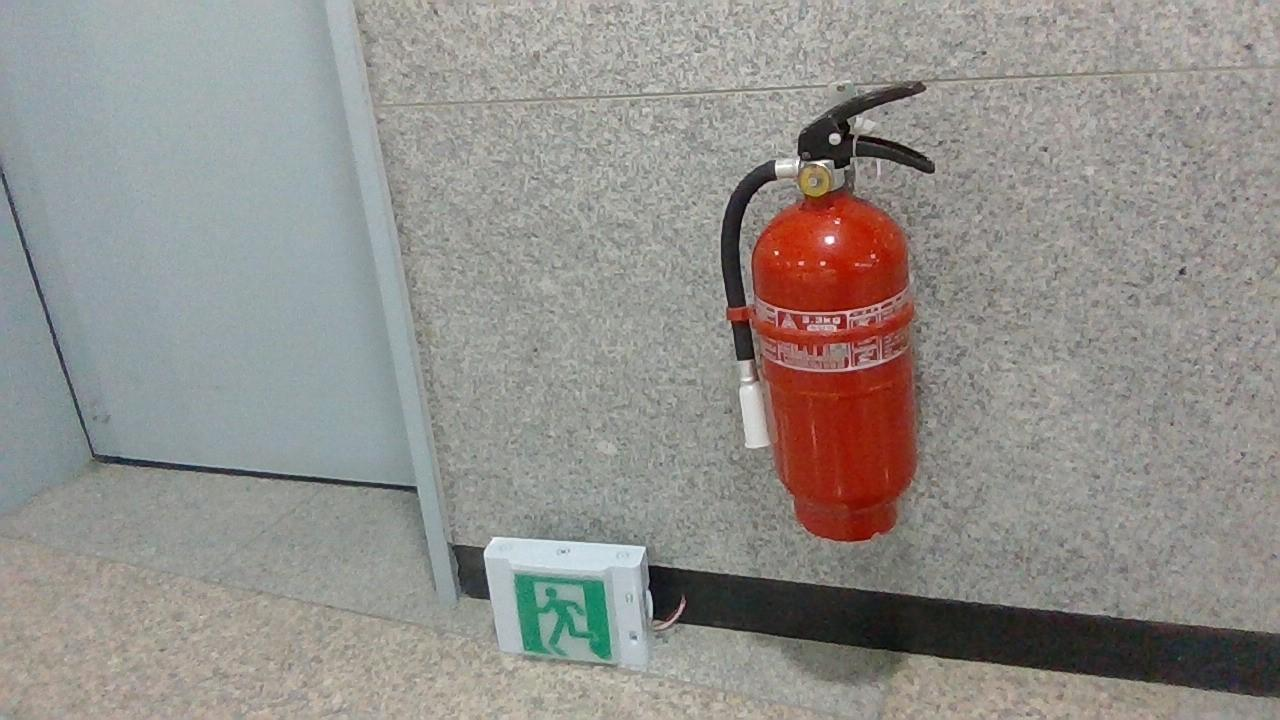emergency_exit: (719, 79, 937, 543), (481, 535, 653, 672)
